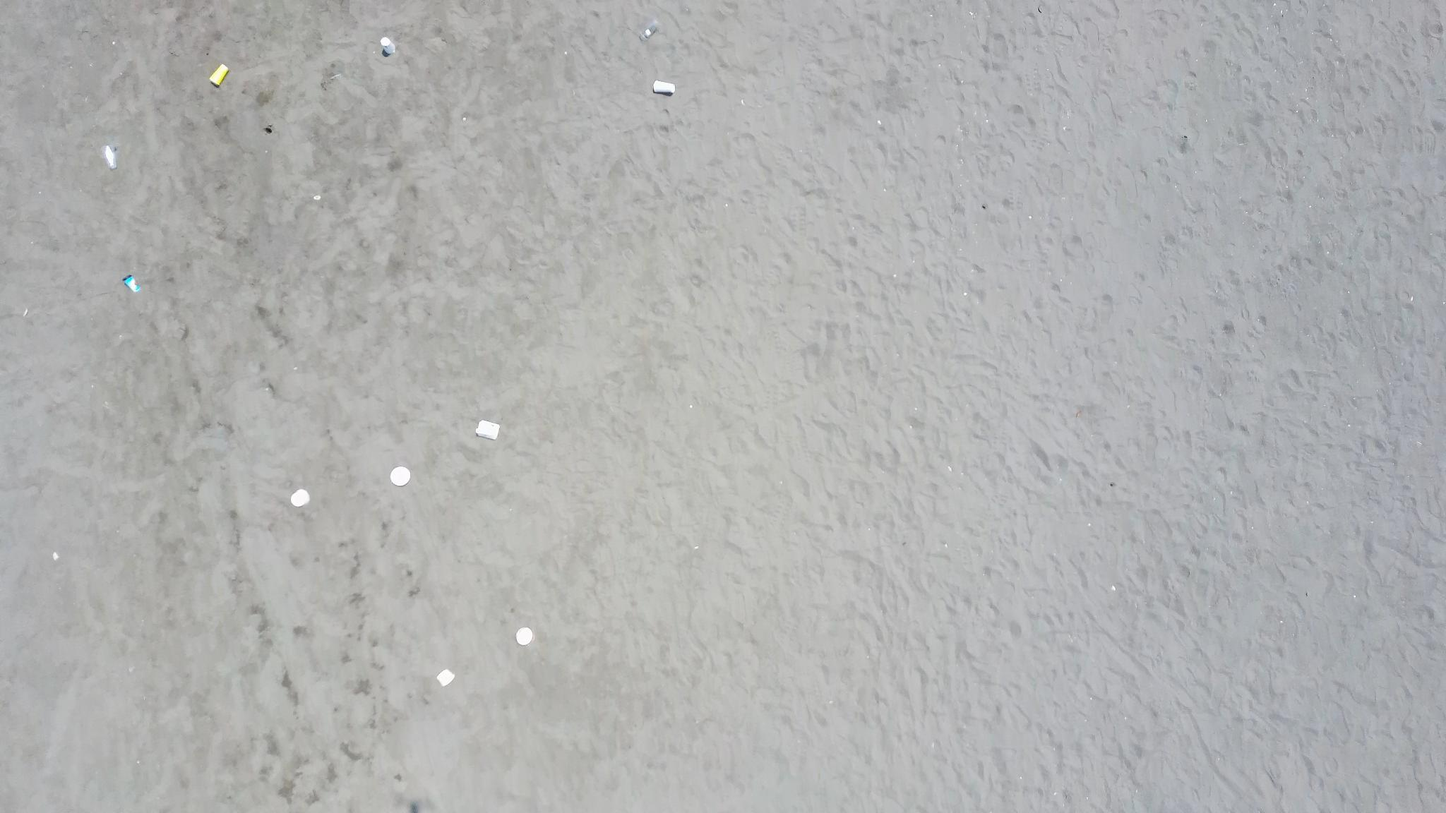Garbage: (475, 420, 498, 440), (389, 466, 410, 486), (640, 19, 658, 41), (210, 63, 227, 86), (289, 488, 310, 506), (652, 80, 674, 95), (103, 144, 116, 169), (515, 627, 532, 644), (122, 275, 140, 291), (438, 669, 454, 686), (381, 37, 395, 56), (264, 125, 273, 132), (313, 194, 321, 200), (52, 552, 58, 560)
